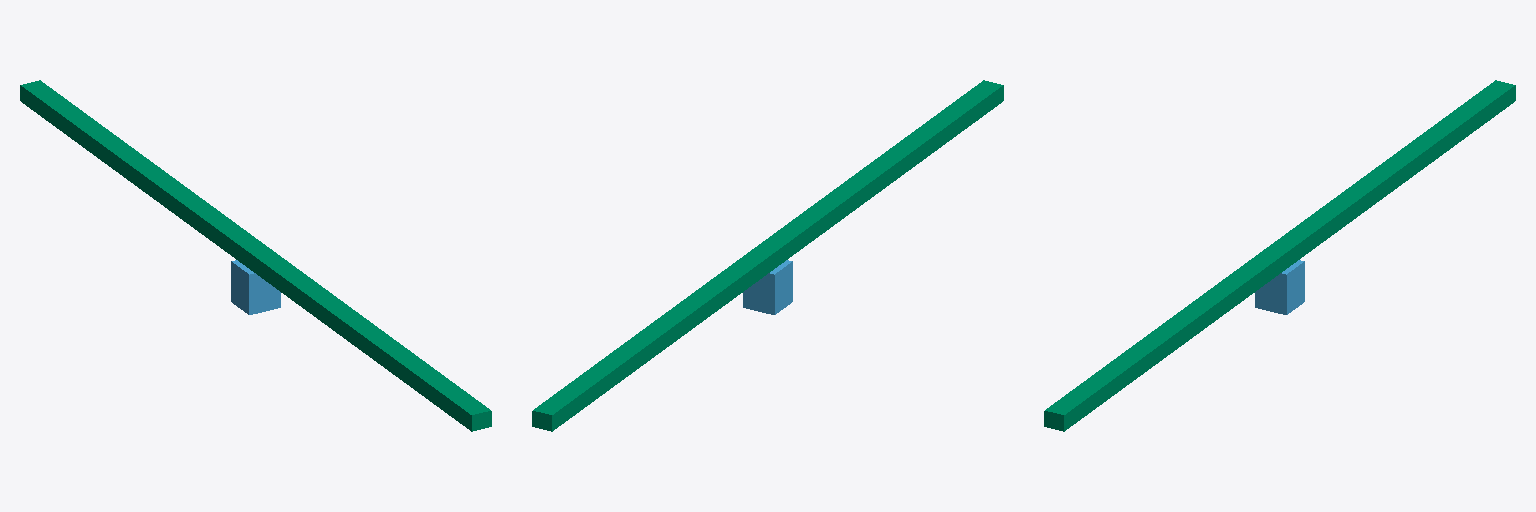
The robot description file, URDF, robot "led_strip":
<?xml version="1.0"?>
<!-- The LED strip for the scan painting, mounted on the FR20's flange.
     A tool description: its root link is the flange's mounting face (z out
     of the face, x and y as joint_6's link), every other link hangs from it
     by a fixed joint, the way an end effector is attached in ROS / MoveIt /
     Isaac Sim. Edited in Houdini (robot_show > Tool) or by hand; read by
     scripts/tool_urdf.py for the collision checks and the display.
     Sizes: the user's, 2026-09-28, before the hardware is built (a ~1 m
     strip, 1 in wide, centred on the flange as a T on a ~5 cm bracket, the
     LEDs facing out along z, its length along y). Measure and update. -->
<robot name="led_strip">
  <link name="tool_mount"/>
  <link name="bracket">
    <visual>
      <origin xyz="0 0 0.025" rpy="0 0 0"/>
      <geometry><box size="0.04 0.04 0.05"/></geometry>
    </visual>
    <collision>
      <origin xyz="0 0 0.025" rpy="0 0 0"/>
      <geometry><box size="0.04 0.04 0.05"/></geometry>
    </collision>
  </link>
  <joint name="tool_mount_to_bracket" type="fixed">
    <parent link="tool_mount"/>
    <child link="bracket"/>
    <origin xyz="0 0 0" rpy="0 0 0"/>
  </joint>
  <link name="strip">
    <visual>
      <origin xyz="0 0 0.06" rpy="0 0 0"/>
      <geometry><box size="0.0254 1.0 0.02"/></geometry>
    </visual>
    <collision>
      <origin xyz="0 0 0.06" rpy="0 0 0"/>
      <geometry><box size="0.0254 1.0 0.02"/></geometry>
    </collision>
  </link>
  <joint name="tool_mount_to_strip" type="fixed">
    <parent link="tool_mount"/>
    <child link="strip"/>
    <origin xyz="0 0 0" rpy="0 0 0"/>
  </joint>
  <link name="led_tcp"/>
  <joint name="tool_mount_to_led_tcp" type="fixed">
    <parent link="tool_mount"/>
    <child link="led_tcp"/>
    <origin xyz="0 0 0.07" rpy="0 0 0"/>
  </joint>
</robot>

--- What the picture shows (computed from the rendered views, not written in the file) ---
3 views of the same robot in one strip: view 1: azimuth 30°, elevation 25°; view 2: azimuth 150°, elevation 25°; view 3: azimuth 330°, elevation 25° (orthographic).
Model led_strip with 4 links and 3 joints (3 fixed), rooted at tool_mount, posed every joint at zero.
Visible links, largest first — view 1: strip, bracket; view 2: strip, bracket; view 3: strip, bracket.
Link boxes in pixels (x1,y1,x2,y2): strip: (20,80,491,431); bracket: (231,260,280,314); strip: (532,80,1003,431); bracket: (743,260,792,314); strip: (1044,80,1515,431); bracket: (1255,260,1304,314).
Bounding box of the posed robot: 0.04 × 1 × 0.07 m (x, y, z).
Geometry: primitives only (box / cylinder / sphere), no mesh files.
